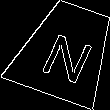N_N: (34, 20, 97, 82)
